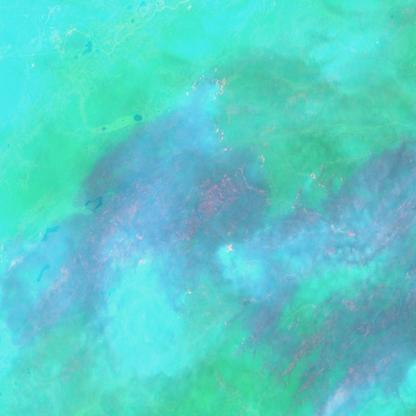fire: (204, 70, 230, 156), (312, 156, 330, 196), (223, 234, 237, 256), (257, 150, 267, 172)
